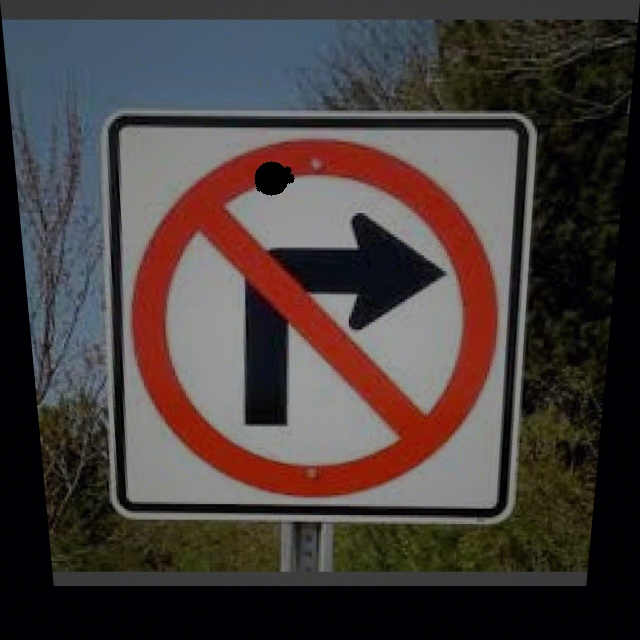Right_Turn_Prohibited: (117, 117, 517, 497)
